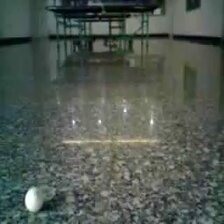w: (24, 187, 44, 212)
